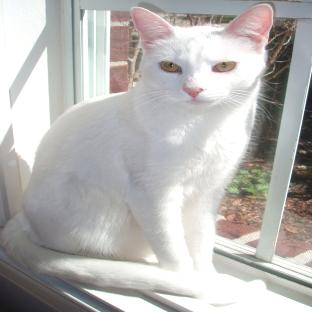Animal: (0, 3, 273, 304)
